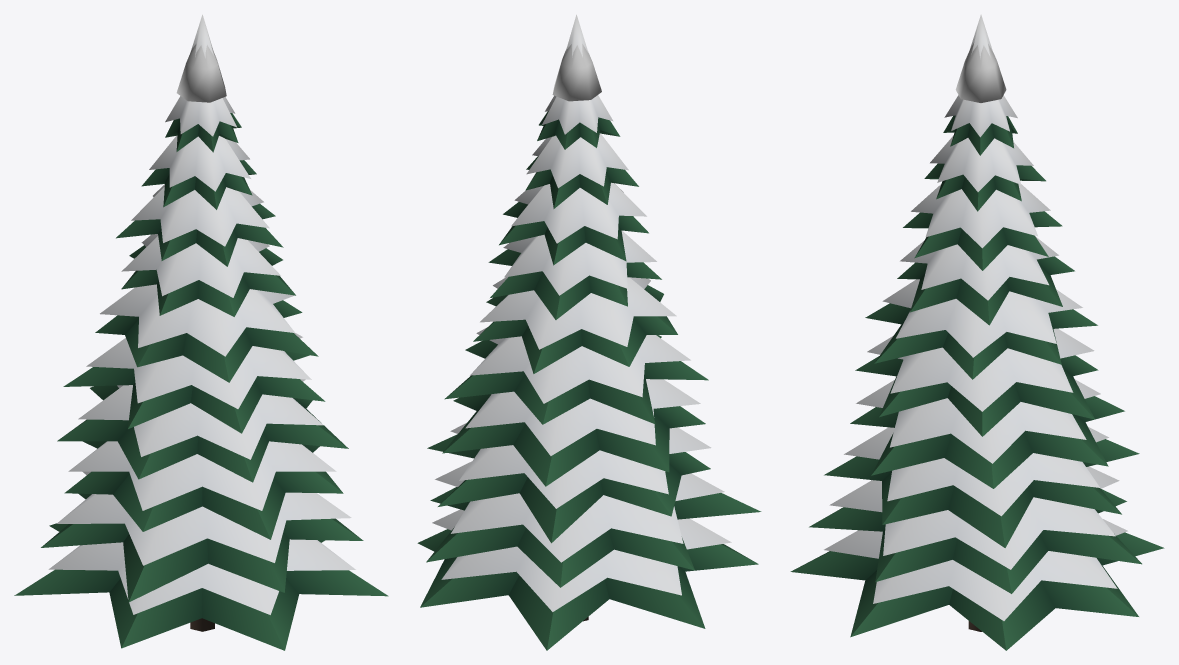
File: todomatsu_lo.glb
The picture shows the model from 3 angles, left to right: view 1: azimuth 30°, elevation 25°; view 2: azimuth 150°, elevation 25°; view 3: azimuth 270°, elevation 25°; orthographic projection.
Visible parts, largest first — view 1: todomatsu_lo; view 2: todomatsu_lo; view 3: todomatsu_lo.
Boxes of the visible parts, box(x1,y1,x2,y2) form: todomatsu_lo: box(14, 14, 388, 650); todomatsu_lo: box(417, 14, 761, 650); todomatsu_lo: box(790, 14, 1164, 650).
Size of the model in its own units: 6.02 by 11.41 by 6.33.
